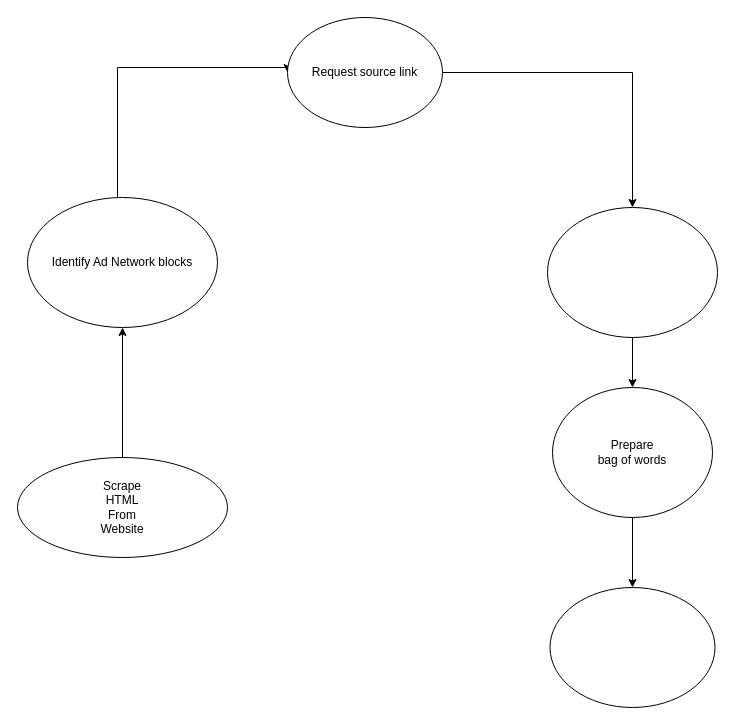
Some shapes in this 735 by 725 pixel diagram are drawn without their labels. The shapes that lost their labels are listed below. From the top down, each one's centre as x and y in pixels, then its label:
At [632,272]: "Translate text to universal language".
At [632,647]: "Identify the topic and emotion based on the dictionaries".
